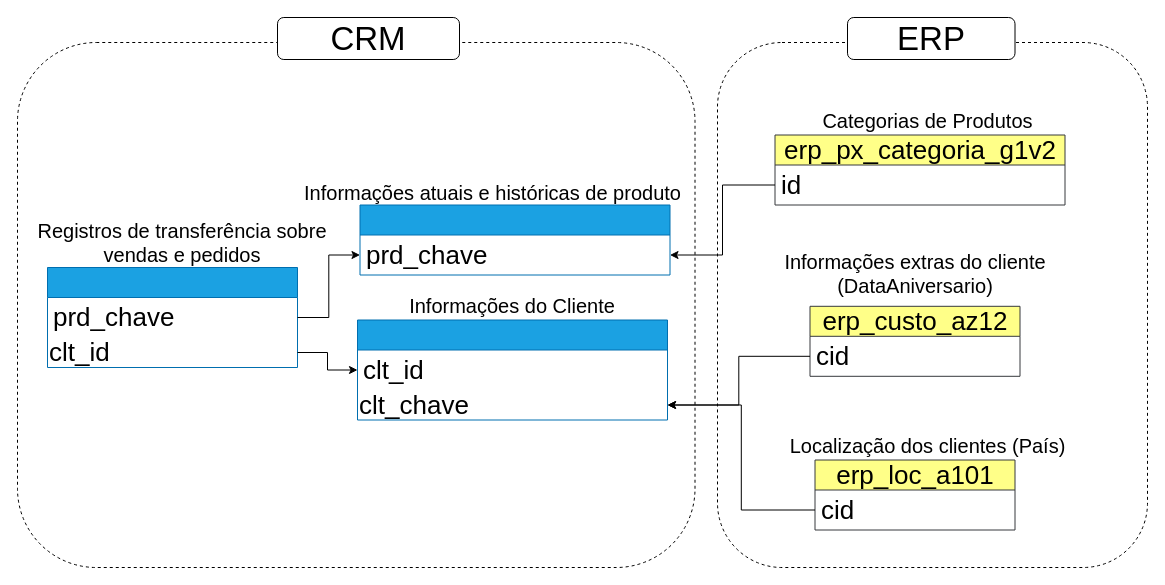
Image size: 1165x585. Some labels were removed from this diagram. Here are the shapes that lost their labels. From the top down, the box of each, then its label:
(359, 204, 670, 275): crm_informacoes_produto
(46, 266, 298, 368): crm_detalhes_venda
(356, 319, 668, 420): crm_informacoes_cliente
